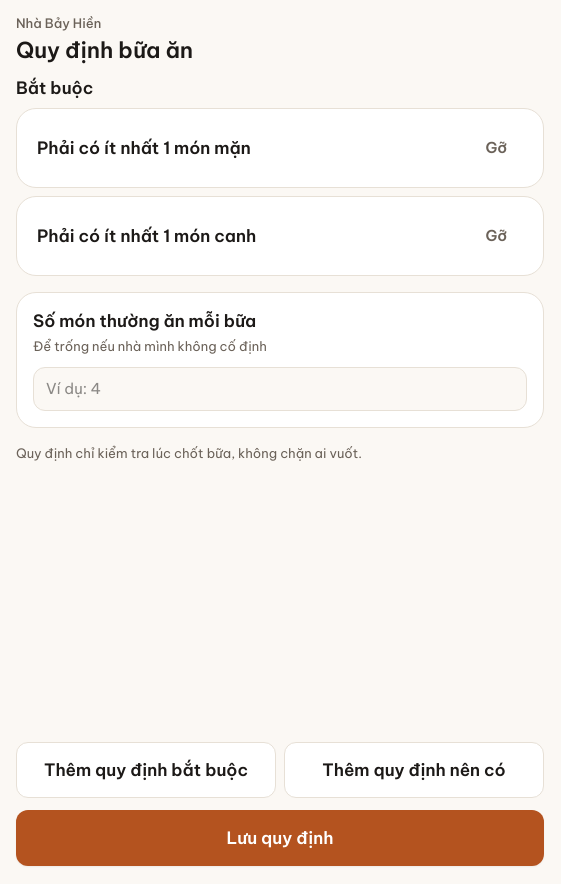
Test: GroupRulesScreen (S-07 + E10-T1) › gỡ hàng đầu: hàng biến mất khỏi danh sách
Click the button "Gỡ" in the row of "Phải có ít nhất 1 món mặn" at (496, 148), box [469,125,523,171]
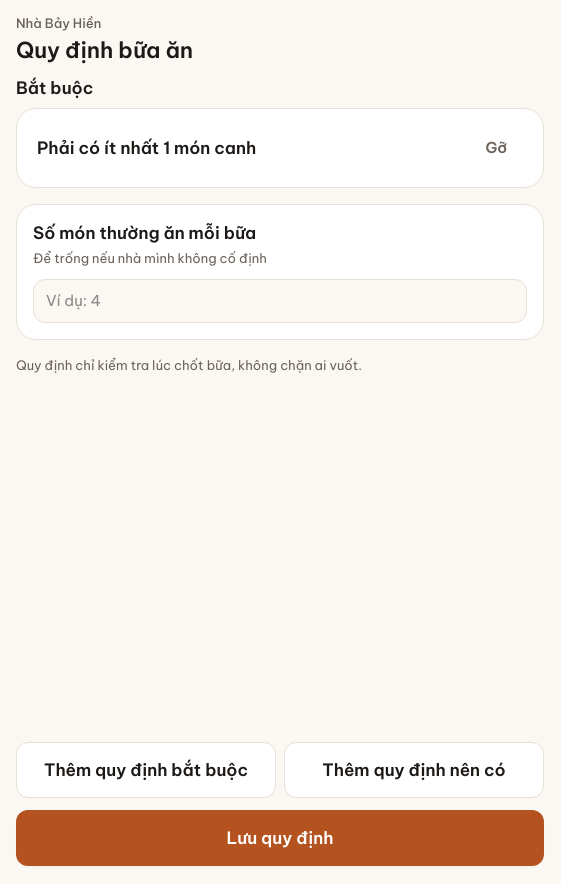
Expected: the text "Phải có ít nhất 1 món canh" is shown, [37,136,256,160]
Expected: the text "Phải có ít nhất 1 món mặn" is gone
